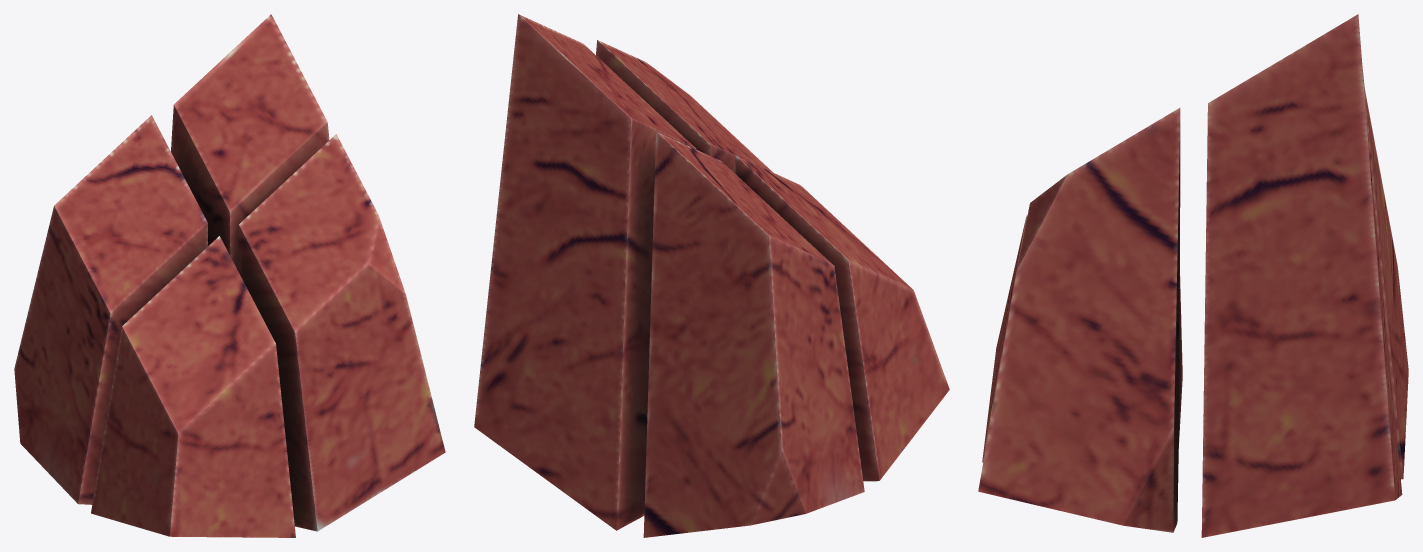
Rendered from HypnoLOD1Top.fbx.
3 views of the same model, side by side, from view 1: azimuth 30°, elevation 25°; view 2: azimuth 150°, elevation 25°; view 3: azimuth 270°, elevation 25° (orthographic). The views are drawn at different scales.
Visible parts, largest first — view 1: polySurface1913; view 2: polySurface1913; view 3: polySurface1913.
Part boxes in pixels (left/top/right/bottom): polySurface1913: left=14, top=14, right=445, bottom=537; polySurface1913: left=474, top=14, right=949, bottom=537; polySurface1913: left=978, top=14, right=1408, bottom=537.
Size of the model in its own units: 1.69 by 2.42 by 1.68.
1 material, 1 textured.
